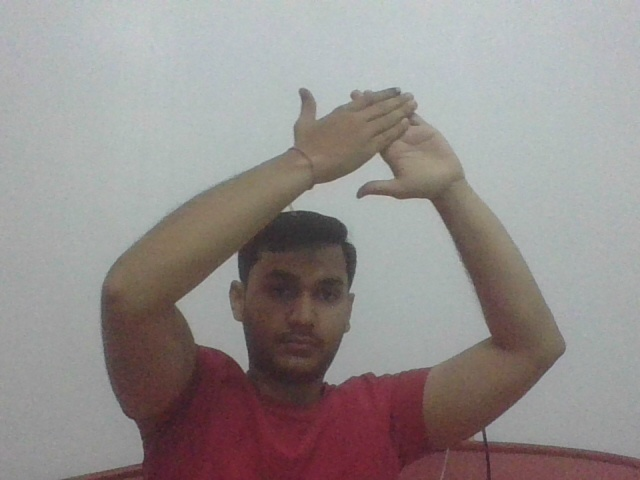H: (290, 82, 470, 209)
